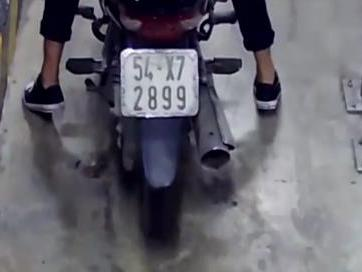num_plate: (118, 47, 199, 117)
